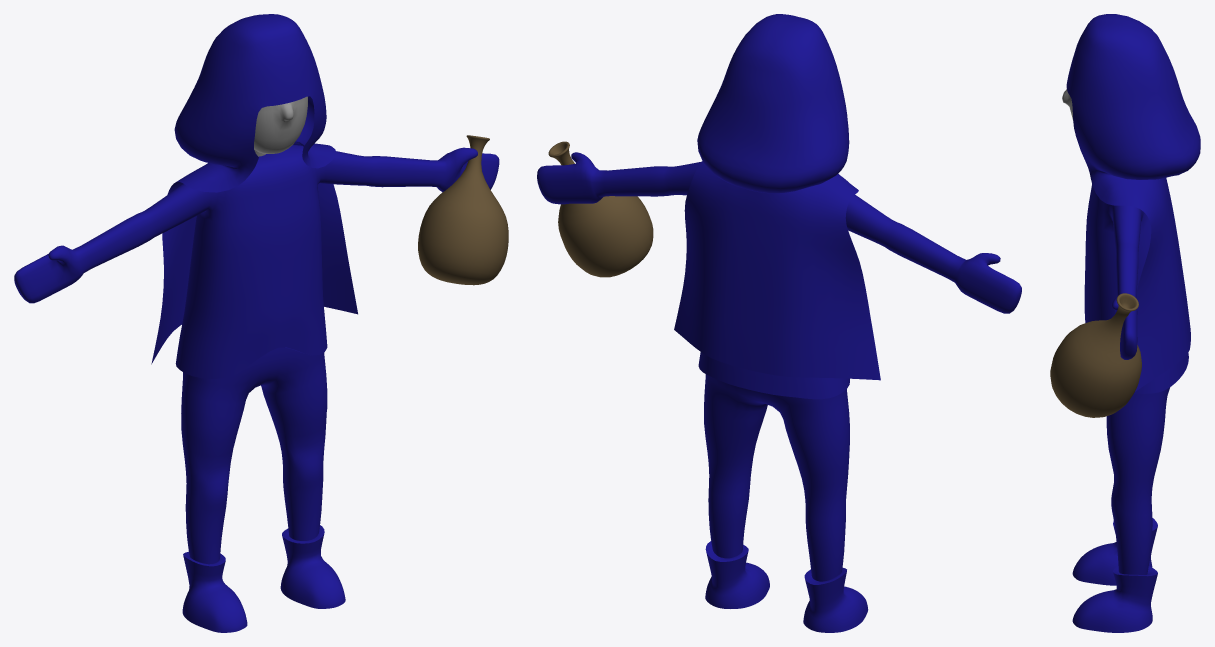
File: thief_notrigged.FBX
3 views of the same model, side by side, from view 1: azimuth 30°, elevation 25°; view 2: azimuth 150°, elevation 25°; view 3: azimuth 270°, elevation 25° (orthographic).
Parts seen in each view (by area): view 1: thief; view 2: thief; view 3: thief.
Boxes of the visible parts, x1,y1,x2,y2 form: thief: (14, 14, 508, 632); thief: (537, 14, 1021, 632); thief: (1050, 14, 1200, 632).
Bounding box in the file's own units: 162 × 44.37 × 188.
